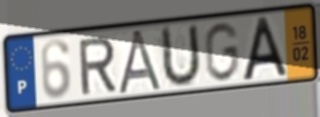6: (38, 36, 74, 102)
A: (240, 14, 291, 84), (115, 27, 166, 97)
G: (202, 20, 241, 84)
R: (76, 34, 119, 97)
U: (160, 21, 203, 91)
